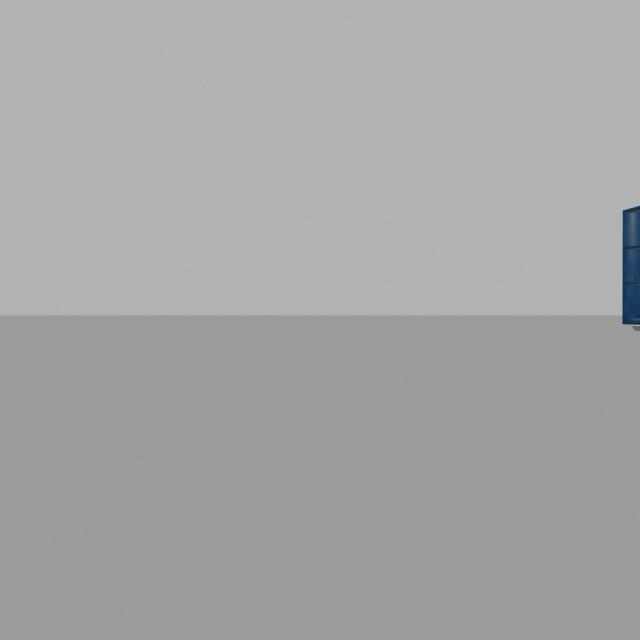bowl: (626, 323, 640, 338)
shelf: (608, 189, 640, 330)
